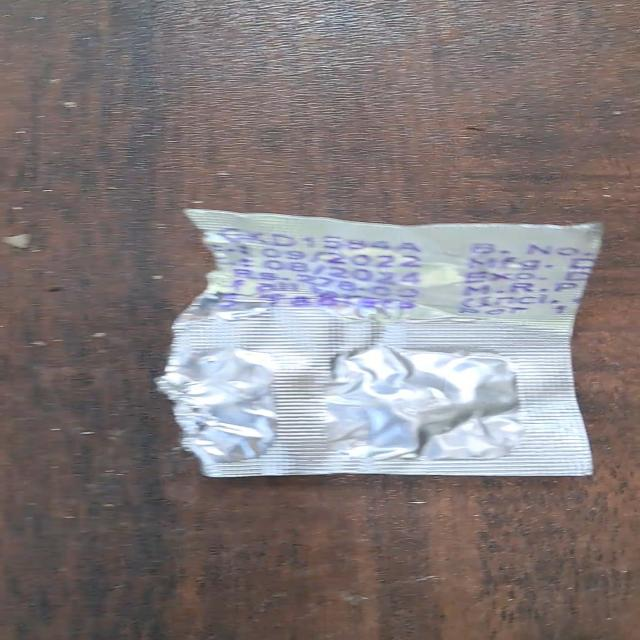Anorganik: (161, 204, 598, 475)
